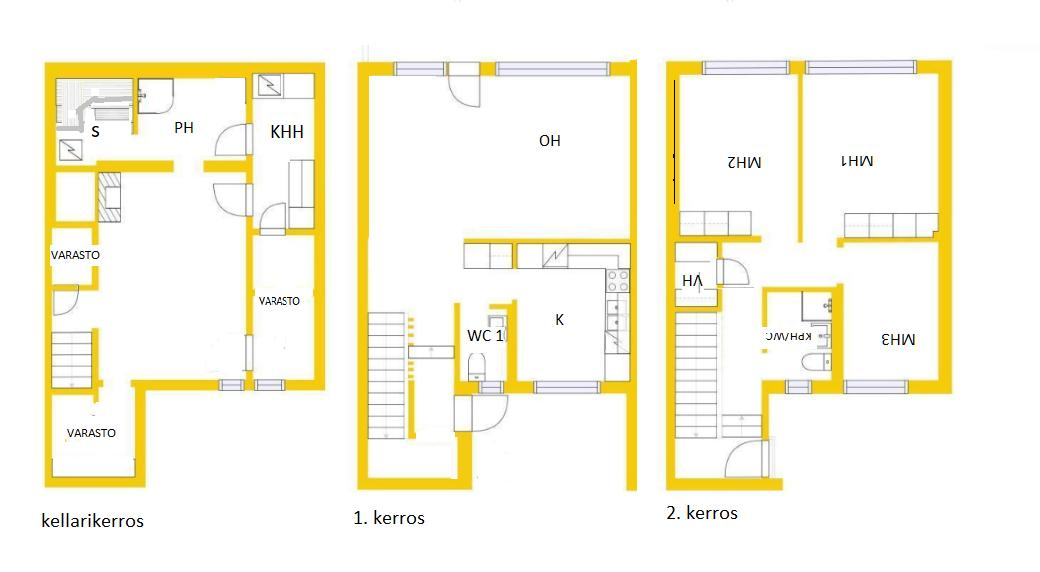bathroom: (767, 289, 833, 383), (460, 305, 510, 386)
door: (721, 436, 777, 479), (454, 393, 509, 434), (444, 61, 483, 111), (210, 120, 257, 160), (210, 180, 256, 220), (713, 255, 753, 287), (257, 200, 288, 237), (51, 282, 83, 317)
perimeter: (665, 58, 953, 492), (42, 63, 325, 488), (356, 61, 636, 489)
stairs: (678, 311, 718, 437), (366, 312, 405, 440), (47, 331, 93, 391), (724, 414, 765, 437)
window: (491, 57, 611, 80), (800, 57, 923, 75), (698, 57, 794, 80), (528, 376, 605, 401), (837, 376, 915, 398), (384, 57, 449, 82), (249, 377, 294, 398), (774, 376, 817, 397), (213, 376, 248, 395), (473, 379, 506, 396)
